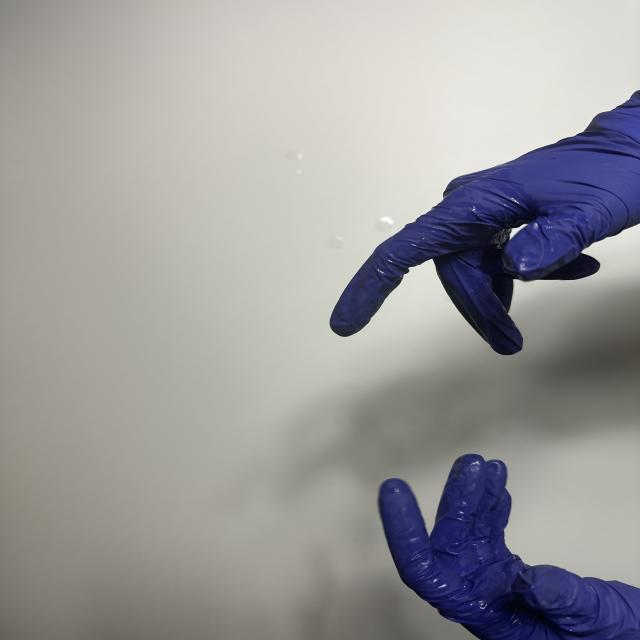gloves_contaminated: (330, 92, 640, 354), (379, 455, 640, 640)
